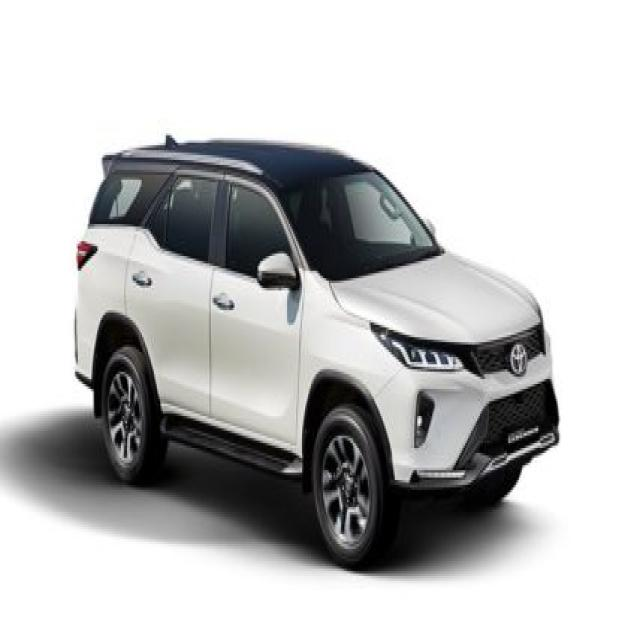light_vehicle: (72, 135, 561, 568)
